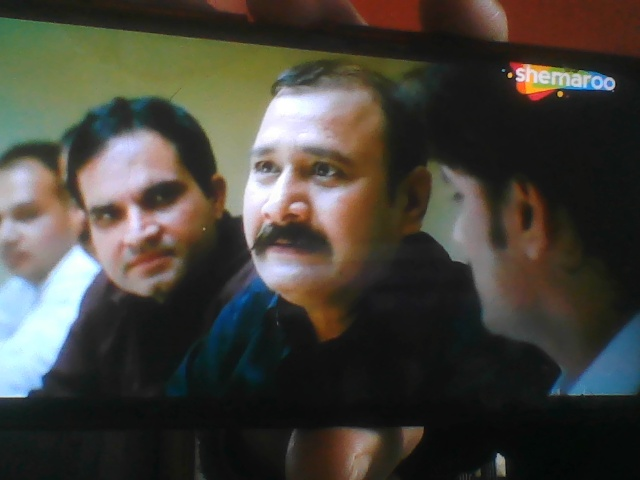fake: (223, 30, 422, 312), (74, 90, 231, 312)
